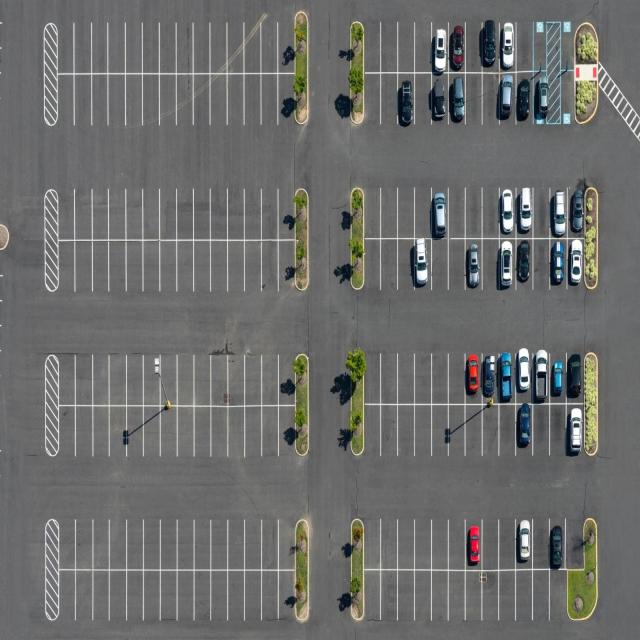space-empty: (520, 568, 552, 625), (50, 404, 80, 460), (70, 567, 97, 625), (51, 353, 80, 406), (222, 17, 249, 71), (258, 14, 283, 72), (55, 240, 80, 298), (53, 522, 80, 574), (70, 18, 95, 74), (71, 404, 96, 460), (107, 69, 131, 126), (240, 16, 264, 73), (71, 72, 94, 131), (564, 516, 590, 568), (158, 570, 182, 626), (155, 70, 179, 126), (72, 240, 95, 298), (70, 191, 96, 242), (86, 18, 110, 73), (106, 569, 129, 626), (105, 517, 130, 569), (206, 19, 231, 71), (190, 23, 215, 75), (71, 516, 95, 570), (154, 18, 178, 72), (140, 404, 164, 458), (156, 405, 180, 459), (224, 69, 247, 125), (208, 70, 231, 126), (174, 570, 197, 626), (177, 70, 200, 126), (125, 570, 148, 626), (276, 14, 298, 72), (55, 190, 80, 241), (107, 18, 131, 71), (140, 353, 164, 406), (126, 406, 149, 461), (140, 570, 163, 625), (88, 240, 110, 297), (88, 69, 110, 126), (90, 569, 112, 626), (107, 189, 131, 241), (176, 520, 200, 572), (158, 354, 182, 406), (105, 353, 129, 405), (124, 188, 148, 240), (396, 16, 419, 70), (428, 518, 451, 572), (209, 349, 232, 403), (124, 240, 147, 294), (88, 404, 111, 458), (139, 19, 162, 73), (140, 239, 163, 293), (192, 70, 214, 126), (193, 570, 215, 626), (123, 73, 145, 129), (177, 404, 199, 460), (140, 190, 164, 241), (72, 354, 95, 407), (159, 518, 182, 571), (193, 350, 216, 403), (177, 351, 200, 404), (414, 17, 436, 72), (208, 570, 230, 625), (108, 241, 130, 296), (225, 569, 247, 624), (106, 406, 128, 461), (514, 22, 538, 72), (479, 518, 502, 570), (125, 516, 148, 568), (192, 517, 215, 569), (140, 516, 163, 568), (176, 23, 199, 75), (156, 190, 179, 242), (444, 403, 466, 457), (464, 404, 486, 458), (192, 405, 214, 459), (464, 569, 486, 623), (209, 404, 231, 458), (446, 515, 468, 569), (241, 570, 263, 624), (208, 187, 230, 241), (260, 70, 282, 124), (156, 240, 178, 294), (139, 74, 161, 128), (260, 570, 282, 624), (176, 187, 198, 241), (481, 70, 502, 126), (413, 515, 435, 568), (446, 186, 468, 239), (92, 354, 114, 407), (481, 187, 503, 240), (444, 349, 466, 402), (529, 517, 551, 570), (531, 186, 553, 239), (496, 571, 517, 626), (398, 238, 419, 293), (481, 571, 502, 626), (209, 239, 230, 294), (379, 72, 400, 127), (534, 240, 555, 295), (414, 186, 436, 238), (90, 517, 112, 569), (226, 518, 248, 570), (224, 188, 246, 240), (496, 520, 518, 572), (262, 518, 284, 570), (126, 355, 148, 407), (430, 403, 451, 457), (193, 240, 214, 294), (225, 241, 246, 295), (447, 571, 468, 625), (430, 348, 451, 402), (193, 187, 214, 241), (360, 347, 381, 401), (242, 519, 264, 570), (88, 190, 110, 241), (360, 519, 382, 570), (432, 570, 452, 626), (242, 69, 262, 125), (395, 515, 416, 568), (447, 238, 468, 291), (497, 403, 518, 456), (465, 187, 486, 240), (413, 350, 434, 403), (466, 71, 486, 126), (378, 348, 398, 403), (461, 22, 483, 72), (481, 404, 502, 456), (530, 404, 551, 456), (209, 516, 230, 568), (242, 188, 263, 240), (361, 21, 382, 73), (261, 188, 282, 240), (414, 571, 434, 625), (380, 238, 400, 292), (379, 570, 399, 624), (396, 349, 416, 403), (178, 240, 198, 294), (124, 19, 144, 73), (228, 352, 248, 406), (242, 350, 262, 404), (361, 187, 382, 238), (414, 404, 434, 457), (432, 238, 452, 291), (398, 185, 418, 238), (414, 75, 434, 128), (482, 239, 502, 292), (378, 19, 398, 72), (228, 406, 248, 459), (362, 570, 382, 623), (362, 73, 381, 128), (377, 186, 397, 238), (380, 516, 400, 568), (549, 404, 569, 456), (262, 352, 282, 404), (398, 570, 417, 624), (398, 404, 417, 458), (530, 22, 550, 72), (244, 407, 263, 459), (263, 407, 282, 459), (362, 404, 381, 456), (262, 239, 280, 293), (244, 240, 262, 294), (380, 404, 398, 457), (362, 238, 380, 291), (278, 240, 296, 291)
space-occupied: (531, 68, 561, 128), (567, 183, 592, 238), (538, 21, 563, 71), (515, 70, 537, 126), (564, 351, 587, 404), (496, 71, 518, 126), (495, 352, 517, 406), (479, 352, 501, 406), (513, 348, 534, 404), (550, 185, 572, 238), (565, 402, 586, 457), (547, 348, 568, 403), (496, 22, 519, 72), (480, 23, 502, 75), (514, 187, 536, 239), (515, 240, 536, 293), (549, 516, 570, 569), (534, 349, 554, 404), (447, 22, 468, 74), (497, 187, 518, 239), (432, 186, 453, 238), (414, 238, 434, 292), (566, 239, 586, 293), (447, 74, 468, 125), (430, 21, 451, 72), (399, 72, 418, 128), (496, 240, 516, 293), (430, 73, 450, 126), (463, 239, 483, 292), (464, 518, 484, 570), (464, 352, 484, 404), (515, 518, 535, 570), (515, 405, 535, 456), (550, 238, 568, 292)
